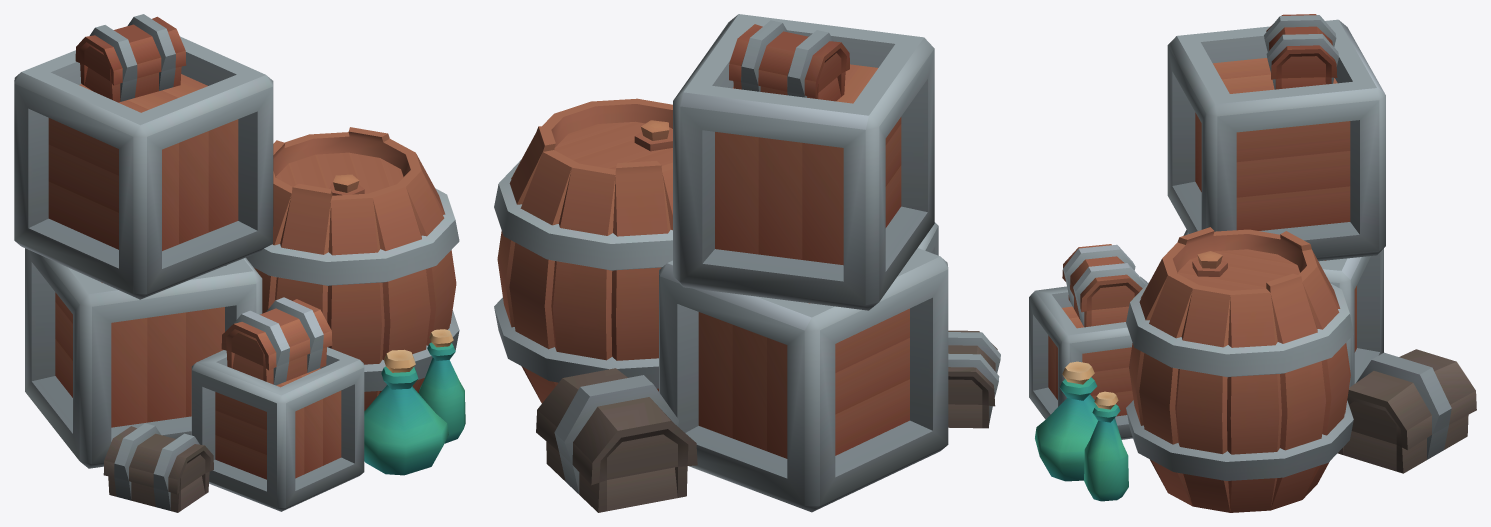
Rendered from box-stacked-gltf.glb.
3 views of the same model, side by side, from view 1: azimuth 30°, elevation 25°; view 2: azimuth 150°, elevation 25°; view 3: azimuth 270°, elevation 25° (orthographic). The views are drawn at different scales.
Visible parts, largest first — view 1: box_stacked; view 2: box_stacked; view 3: box_stacked.
Boxes of the visible parts, left/top/right/bottom form: box_stacked: left=14, top=14, right=465, bottom=512; box_stacked: left=494, top=14, right=1000, bottom=512; box_stacked: left=1029, top=14, right=1476, bottom=512.
Size of the model in its own units: 3.48 by 3.31 by 3.63.
1 material, 1 textured.
